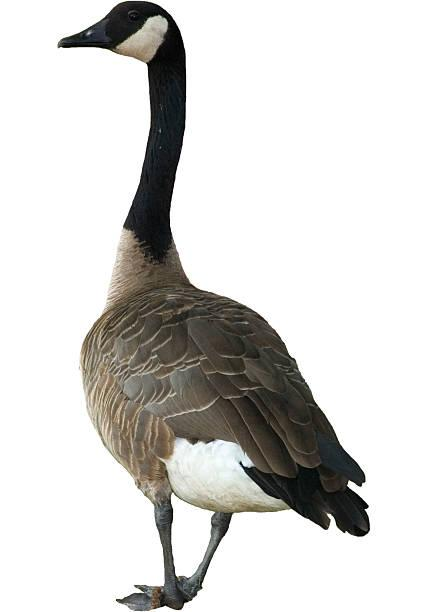Canadian-Goose: (56, 0, 370, 609)
